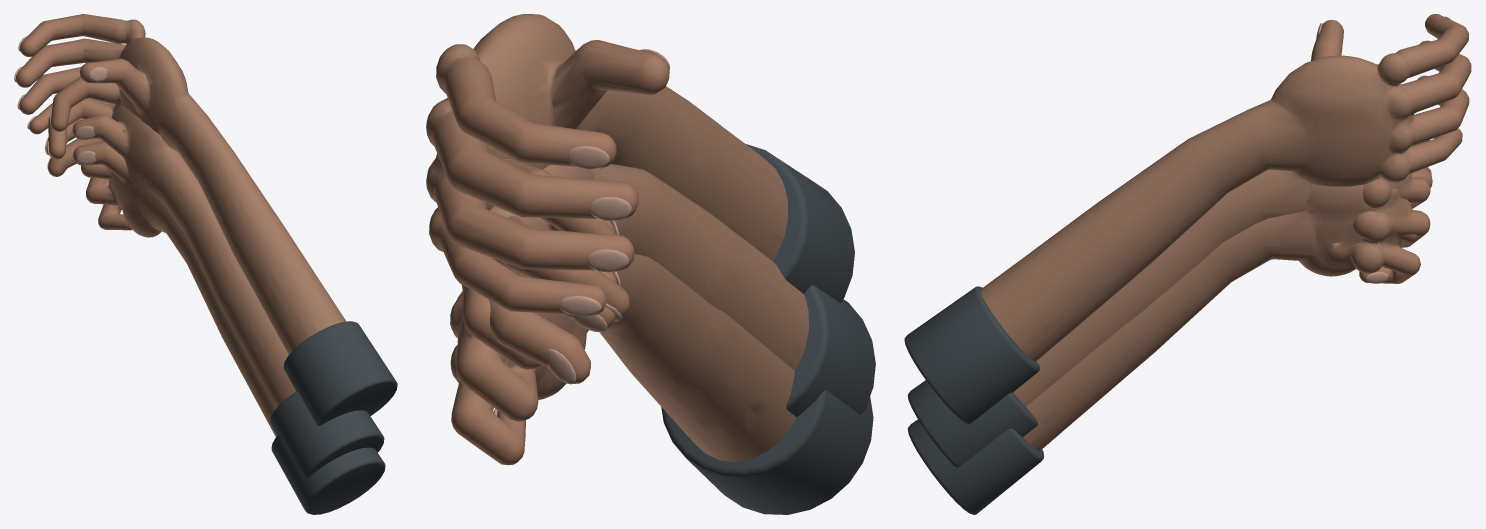
File: hands.glb
3 renders of one model, left to right at view 1: azimuth 30°, elevation 25°; view 2: azimuth 150°, elevation 25°; view 3: azimuth 270°, elevation 25°, orthographic. The views are drawn at different scales.
Visible parts, largest first — view 1: beer_hand, hookah_hand, vape_hand, beer_cuff, hookah_cuff, vape_cuff; view 2: beer_hand, vape_hand, hookah_hand, vape_cuff, beer_cuff, hookah_cuff, beer_nails, vape_nails; view 3: beer_hand, vape_hand, hookah_hand, beer_cuff, vape_cuff, hookah_cuff.
Boxes of the visible parts, x1,y1,x2,y2 form: beer_hand: [16, 14, 346, 354]; hookah_hand: [46, 76, 295, 408]; vape_hand: [48, 98, 277, 436]; beer_cuff: [283, 321, 397, 425]; hookah_cuff: [270, 391, 384, 479]; vape_cuff: [271, 435, 385, 514]; beer_hand: [426, 14, 787, 315]; vape_hand: [450, 216, 796, 465]; hookah_hand: [457, 159, 808, 370]; vape_cuff: [661, 390, 873, 514]; beer_cuff: [746, 144, 854, 302]; hookah_cuff: [786, 285, 875, 416]; beer_nails: [560, 49, 669, 316]; vape_nails: [494, 271, 621, 415]; beer_hand: [980, 14, 1471, 361]; vape_hand: [1023, 140, 1432, 450]; hookah_hand: [1013, 169, 1430, 406]; beer_cuff: [904, 286, 1040, 424]; vape_cuff: [907, 419, 1044, 514]; hookah_cuff: [908, 380, 1037, 467].
Bounding box in the file's own units: 0.1488 × 0.296 × 0.3435.
